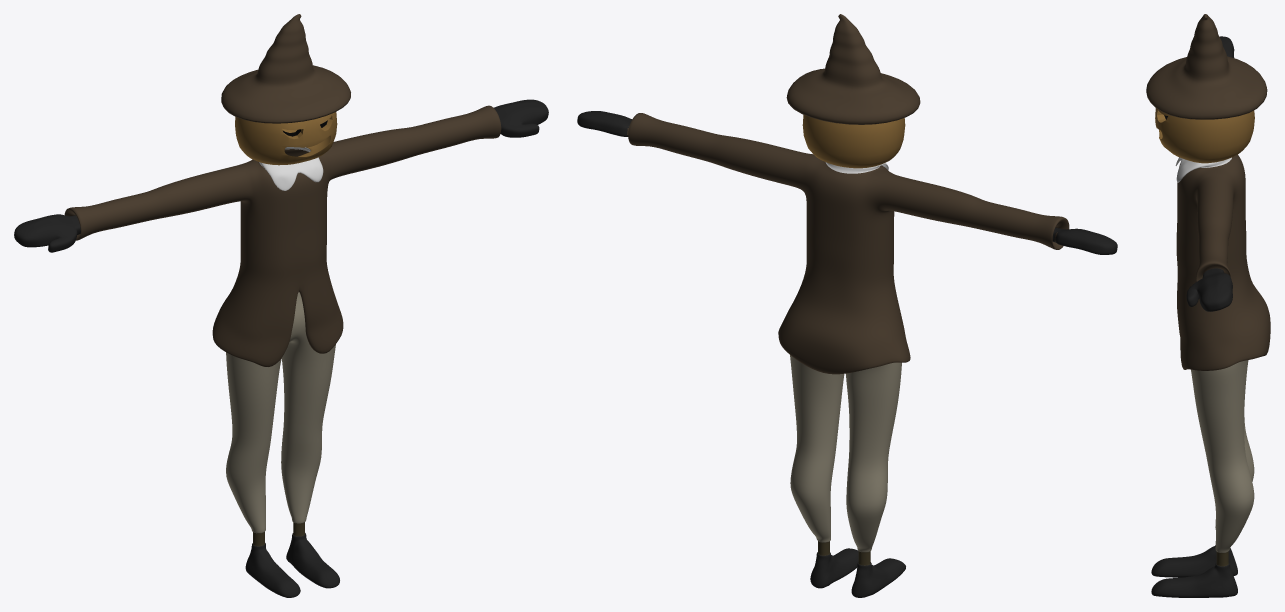
The model's file is Scarecrow_hollow.fbx.
3 views of the same model, side by side, from view 1: azimuth 30°, elevation 25°; view 2: azimuth 150°, elevation 25°; view 3: azimuth 270°, elevation 25° (orthographic). The views are drawn at different scales.
Parts seen in each view (by area): view 1: polySurface12; view 2: polySurface12; view 3: polySurface12.
Boxes of the visible parts, left/top/right/bottom form: polySurface12: left=14, top=14, right=548, bottom=597; polySurface12: left=577, top=14, right=1117, bottom=597; polySurface12: left=1146, top=14, right=1270, bottom=597.
Bounding box in the file's own units: 8.61 × 8.67 × 1.7.
